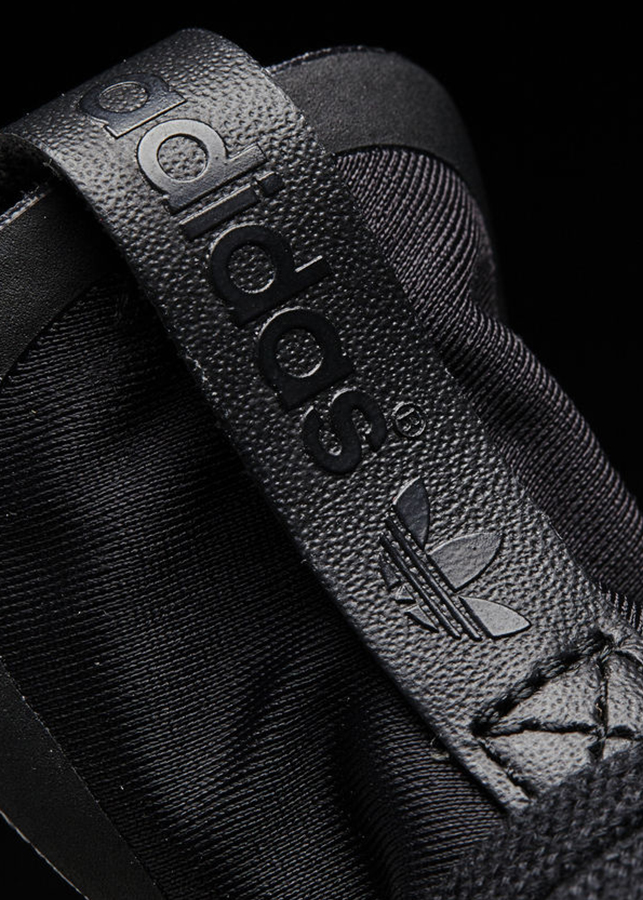Adidas: (74, 67, 535, 657)
